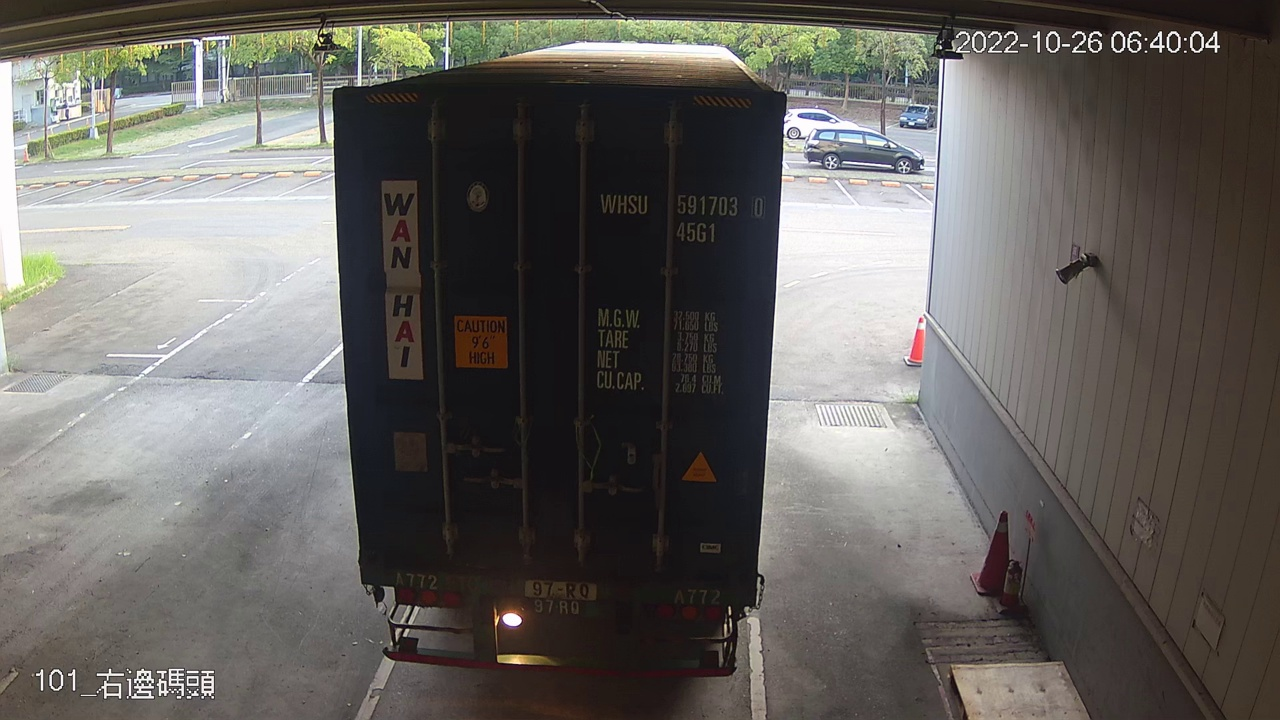container: (595, 186, 770, 248)
